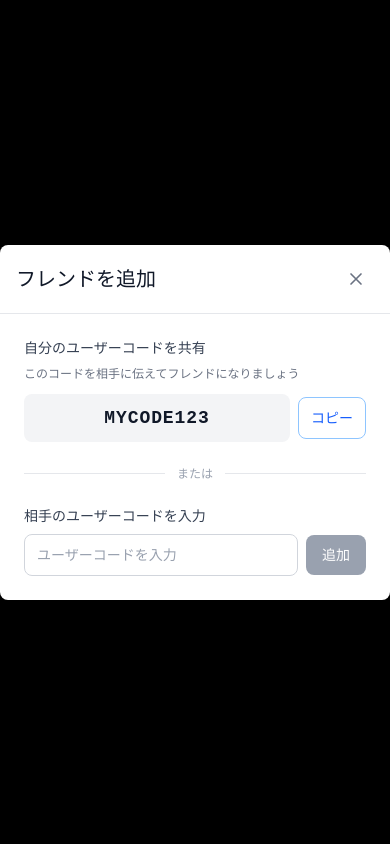
Test: UserCodeModal › コピーボタンでクリップボードにコピーする
This screenshot has width=390, height=844.
Expected: the text with test id "my-user-code" reads "MYCODE123", [104, 408, 210, 428]
Click the button with test id "copy-code-button".
click(332, 418)  # box [298, 396, 366, 438]
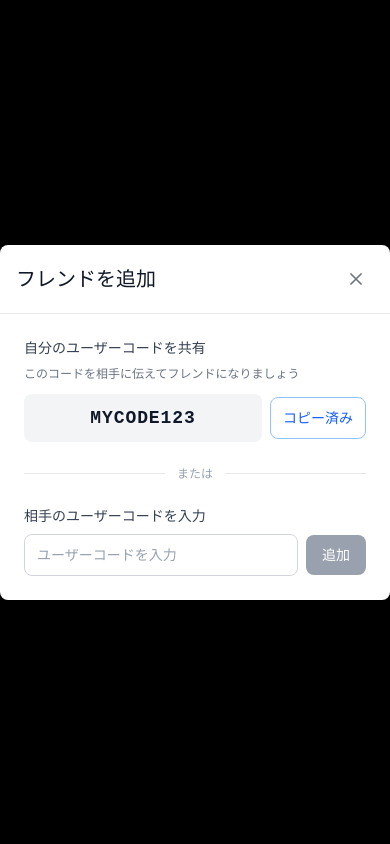
Expected: the button with test id "copy-code-button" reads "コピー済み", [270, 396, 366, 438]
